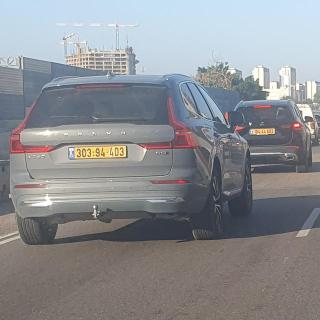LicensePlate: (75, 146, 126, 159), (253, 128, 275, 134)
